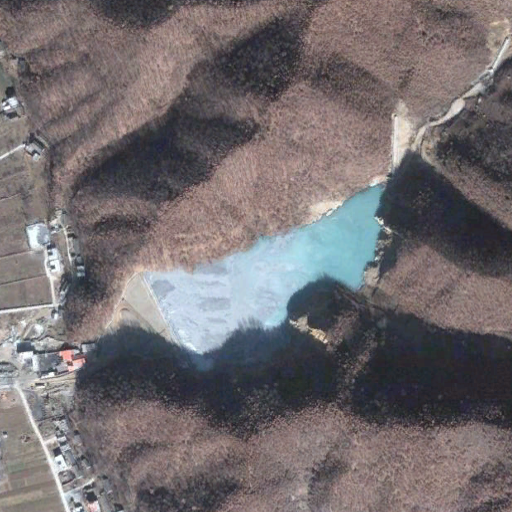tp: (87, 184, 384, 376)
